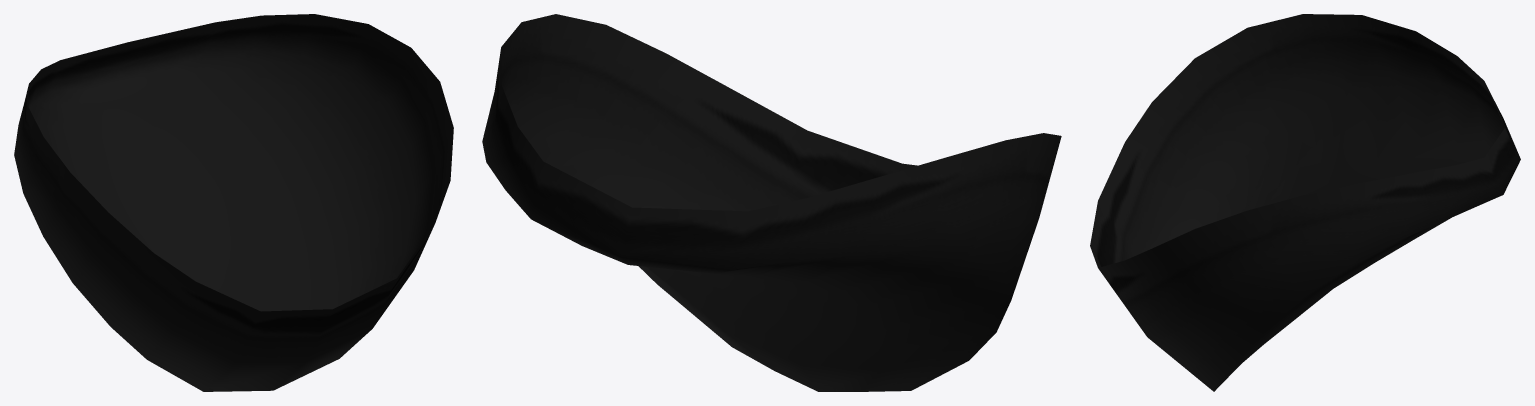
The model's file is YVR_d1_right_trigger.obj.
The picture shows the model from 3 angles, left to right: view 1: azimuth 30°, elevation 25°; view 2: azimuth 150°, elevation 25°; view 3: azimuth 270°, elevation 25°; orthographic projection. The views are drawn at different scales.
Visible parts, largest first — view 1: Object008; view 2: Object008; view 3: Object008.
Part boxes in pixels (<box>): Object008: <box>14,14,453,391</box>; Object008: <box>482,14,1061,391</box>; Object008: <box>1090,14,1520,391</box>.
Size of the model in its own units: 0.0272 by 0.0191 by 0.0271.
1 material, 1 textured.
